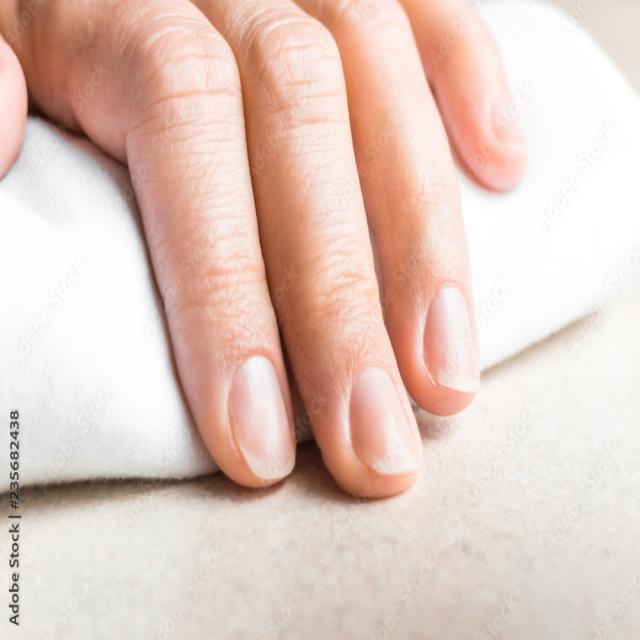Fingernail: (228, 356, 299, 486), (349, 365, 421, 472), (424, 284, 482, 394), (491, 91, 527, 155)
